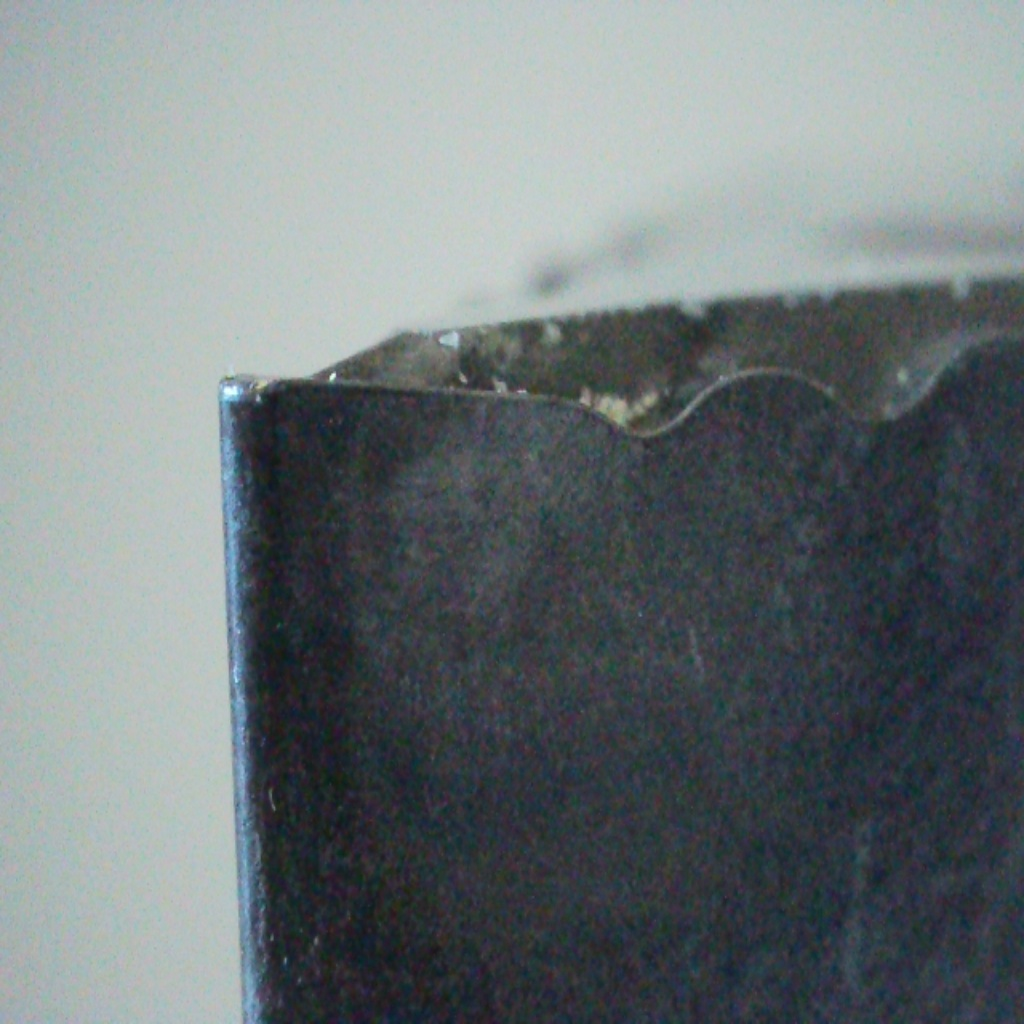flank_wear: (214, 369, 280, 414)
